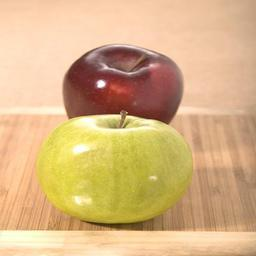apple: (33, 112, 195, 226), (61, 42, 184, 125)
